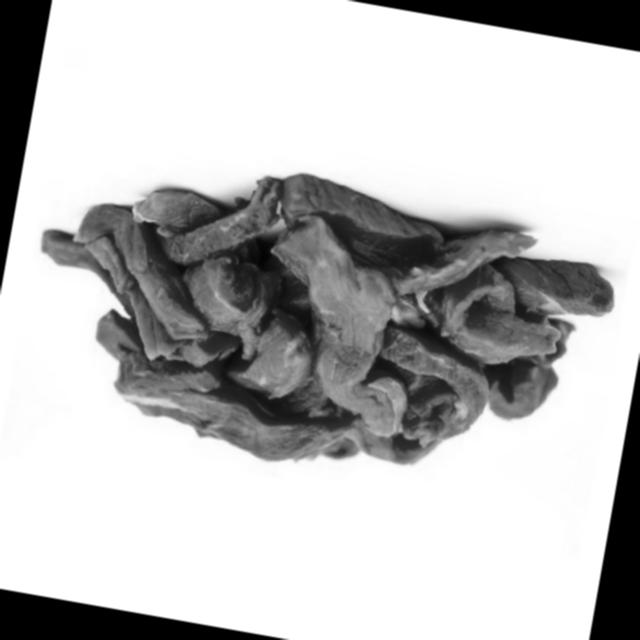meat pieces: (6, 129, 628, 519)
